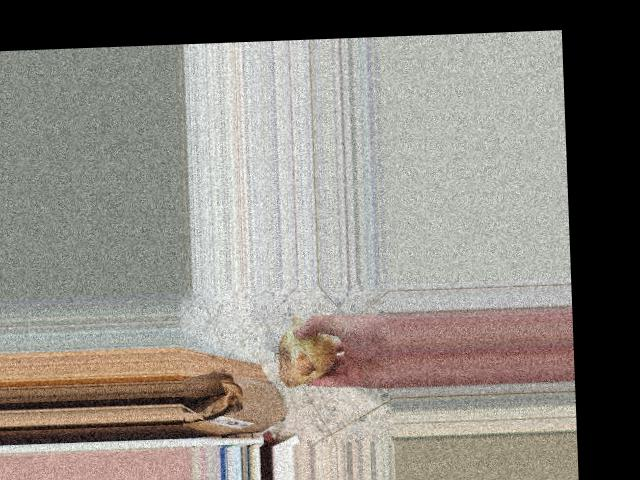onion: (269, 315, 342, 390)
